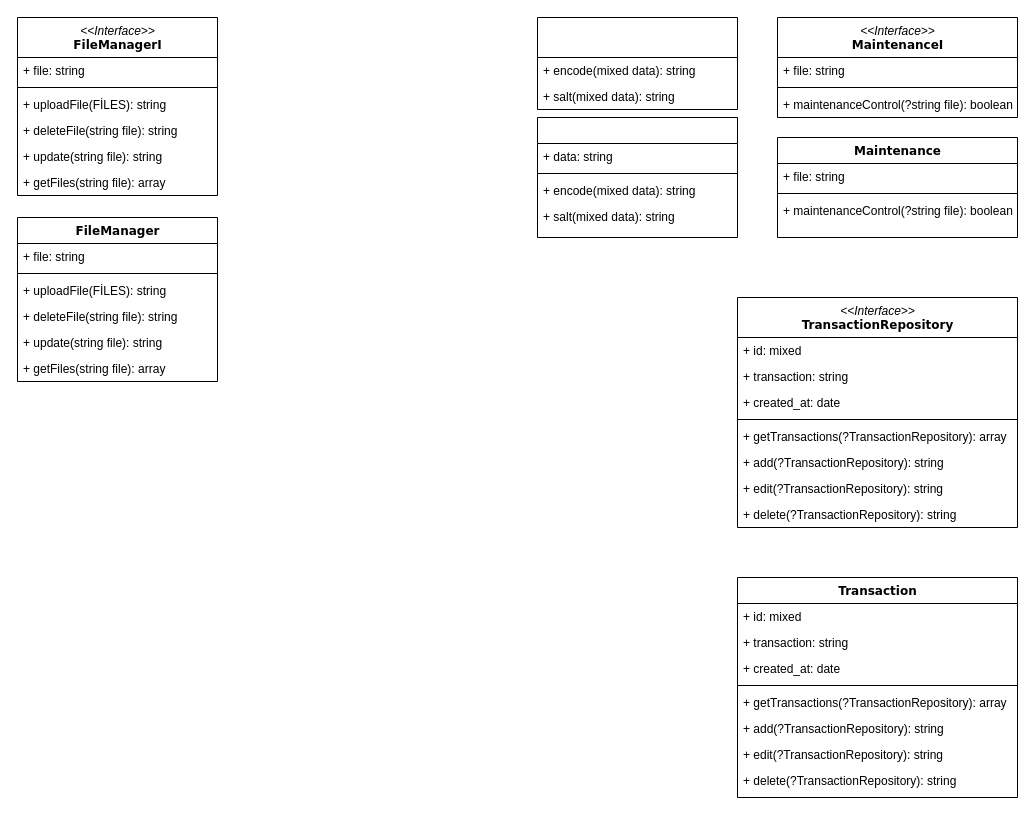
The diagram is 1035 pixels wide and 815 high, and some of its shapes have lost their labels. Each missing label, with the box of its shape:
<<Interface>> EncoderI: (536, 16, 738, 110)
Encoder: (536, 116, 738, 238)
